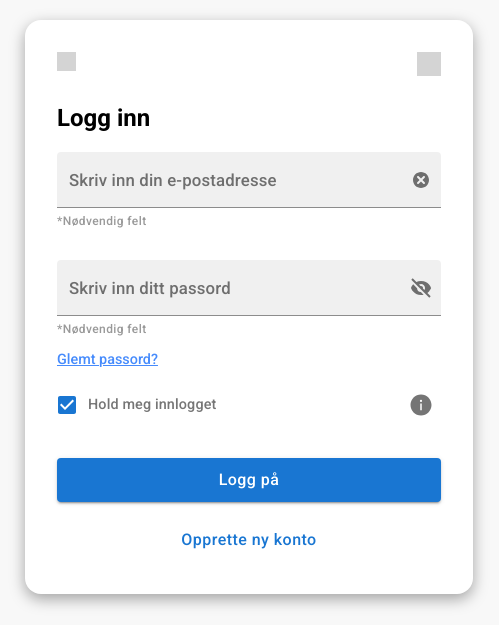
Test case: Should show error message for valid email
The image size is (499, 625).
Type "test.com" into the field labelled "Skriv inn din e-postadresse" at (225, 180), box [57,152,393,208]
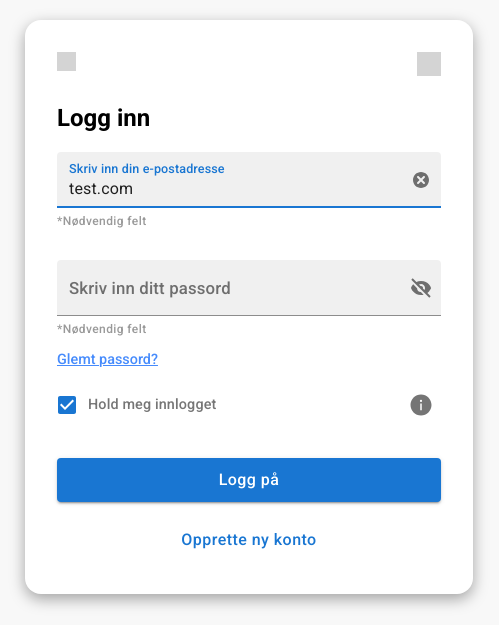
Click the button "Logg på" at (249, 480), box [57,458,441,502]
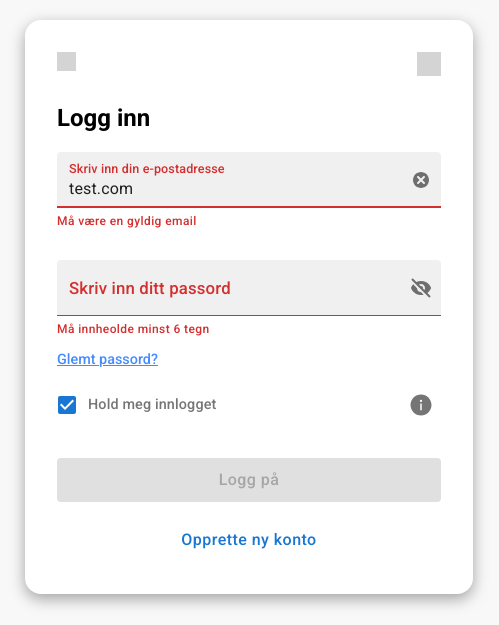
Check: the text "Må være en gyldig email" is shown, box [57,214,197,228]
